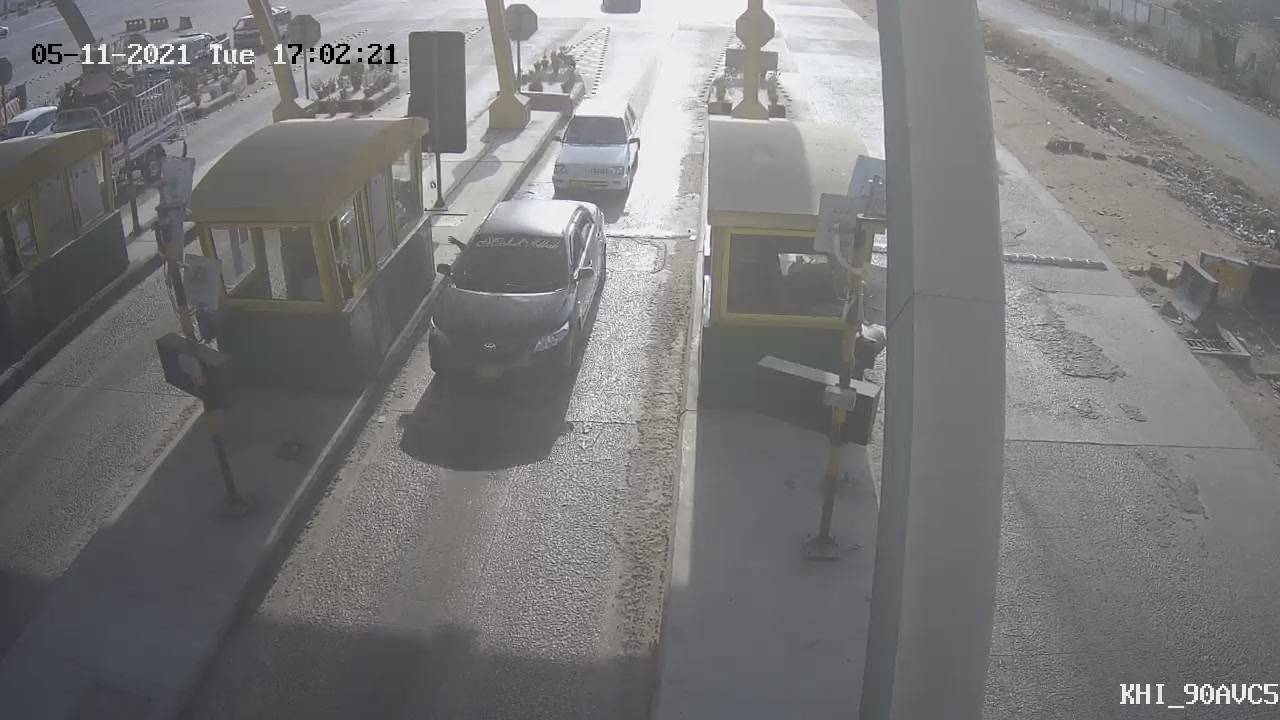F1: (395, 178, 635, 407), (530, 83, 657, 208)
